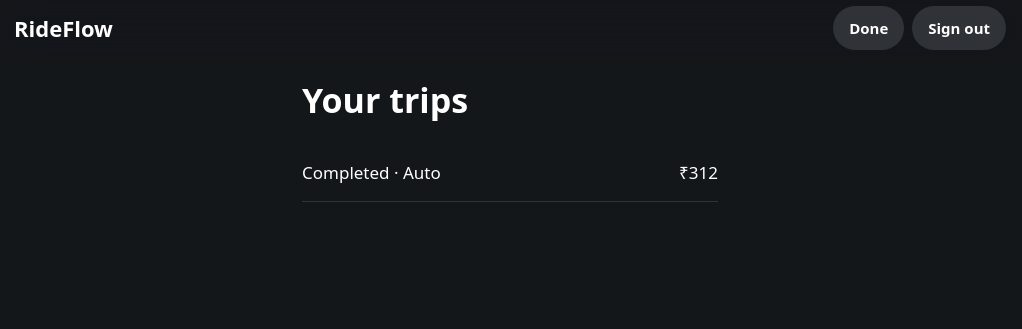
Test: the rider’s trips › open the trip itself
Click the link "Completed · Auto ₹312".
click(346, 172)  # box [302,161,718,184]
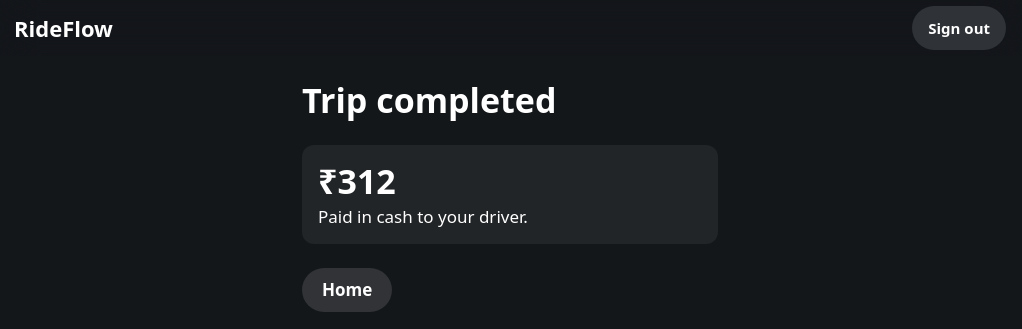
Expected: the heading "Trip completed" is shown, [302,77,556,123]
